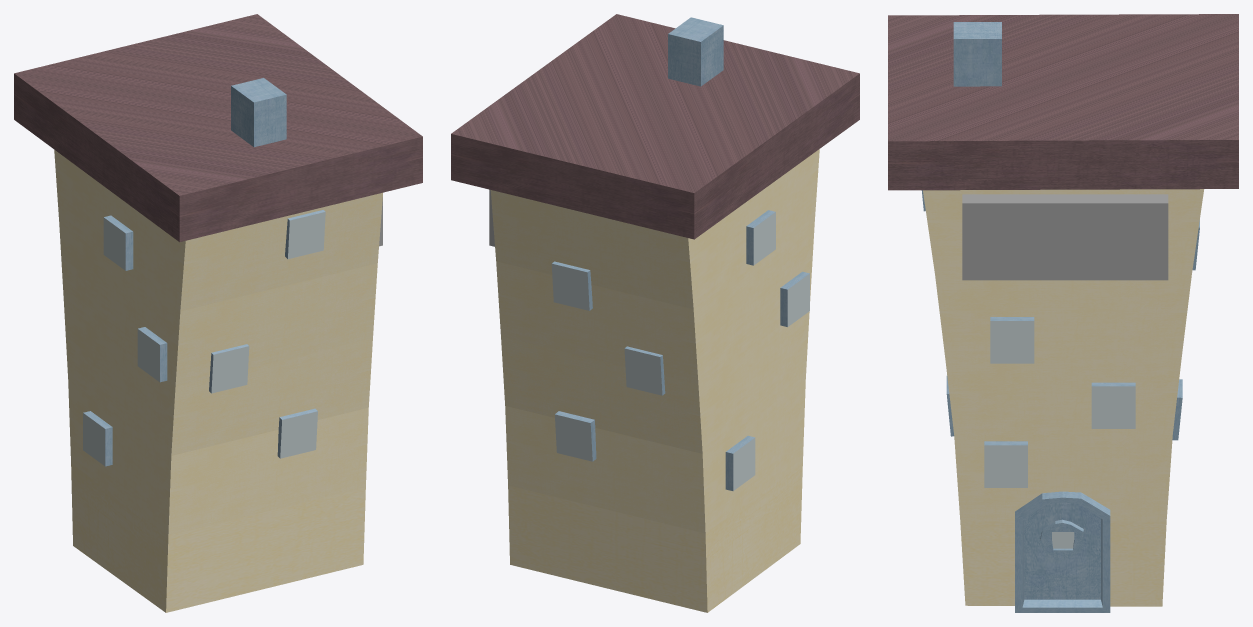
Rendered from BGBuilding2.fbx.
The picture shows the model from 3 angles, left to right: view 1: azimuth 30°, elevation 25°; view 2: azimuth 150°, elevation 25°; view 3: azimuth 270°, elevation 25°; orthographic projection. The views are drawn at different scales.
Parts seen in each view (by area): view 1: group3_pasted__group2_pasted__pasted__group1_pasted__pasted_; view 2: group3_pasted__group2_pasted__pasted__group1_pasted__pasted_; view 3: group3_pasted__group2_pasted__pasted__group1_pasted__pasted_.
Part boxes in pixels (<box>): group3_pasted__group2_pasted__pasted__group1_pasted__pasted_: <box>14,14,422,612</box>; group3_pasted__group2_pasted__pasted__group1_pasted__pasted_: <box>451,14,859,612</box>; group3_pasted__group2_pasted__pasted__group1_pasted__pasted_: <box>888,14,1238,612</box>.
Size of the model in its own units: 7.05 by 13.71 by 8.3.
6 materials, 4 textured.
